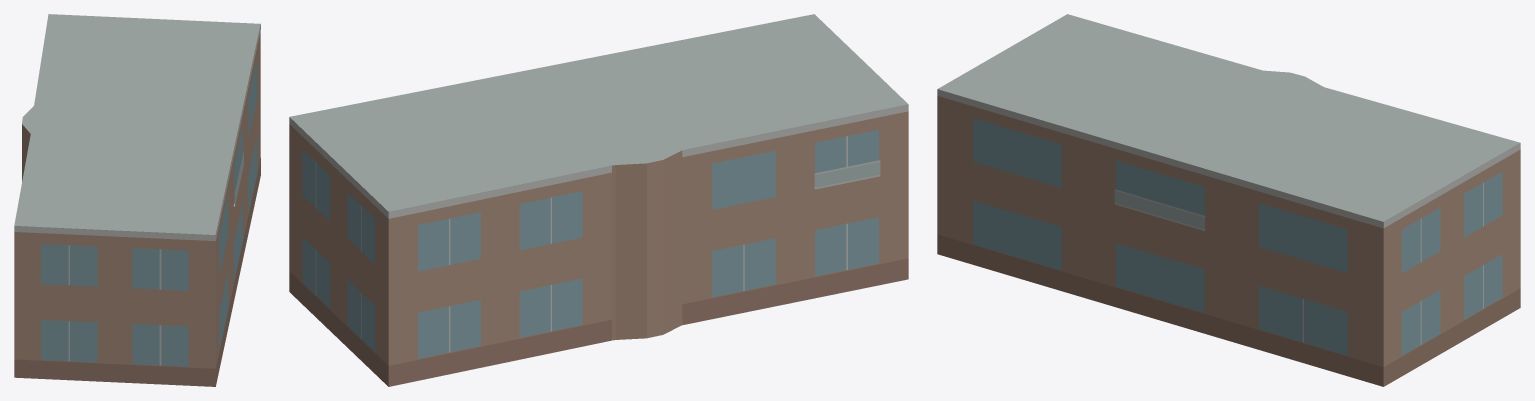
File: survey-upis-32963770.glb
3 renders of one model, left to right at view 1: azimuth 30°, elevation 25°; view 2: azimuth 150°, elevation 25°; view 3: azimuth 270°, elevation 25°, orthographic. The views are drawn at different scales.
Parts seen in each view (by area): view 1: survey-upis-32963770.tmp; view 2: survey-upis-32963770.tmp; view 3: survey-upis-32963770.tmp.
Boxes of the visible parts, box(x1,y1,x2,y2) form: survey-upis-32963770.tmp: box(14, 14, 260, 386); survey-upis-32963770.tmp: box(289, 14, 908, 386); survey-upis-32963770.tmp: box(937, 14, 1520, 386).
Size of the model in its own units: 16.49 by 6.1 by 19.55.
